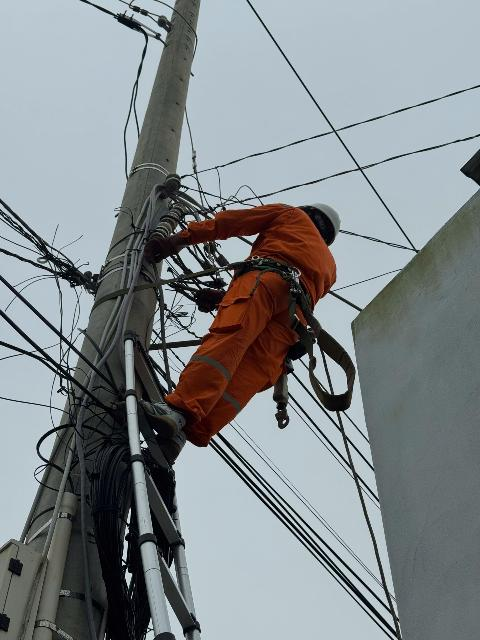gloves: (131, 225, 192, 272)
harness: (190, 252, 340, 343)
helmet: (284, 192, 353, 246)
shoes: (123, 390, 192, 432), (145, 419, 197, 460)
